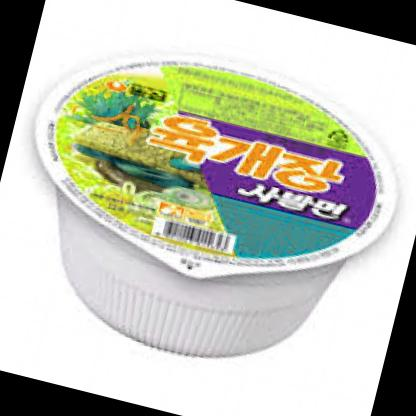Ramen: (0, 18, 416, 396)
